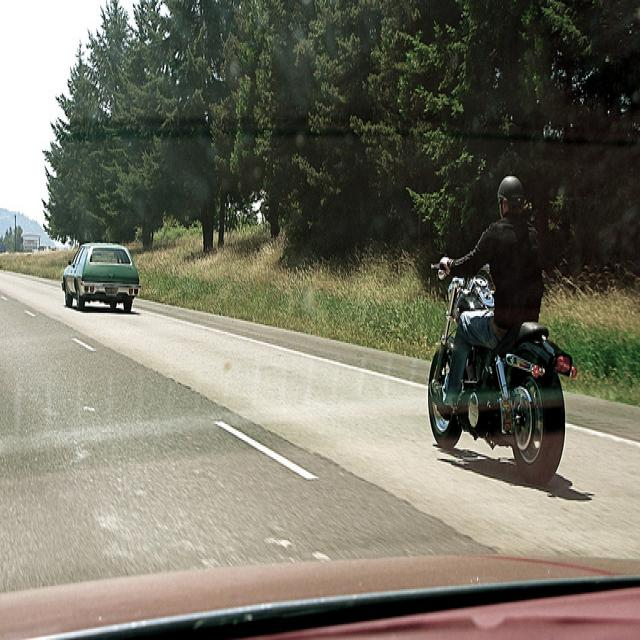motor: (425, 266, 575, 480)
